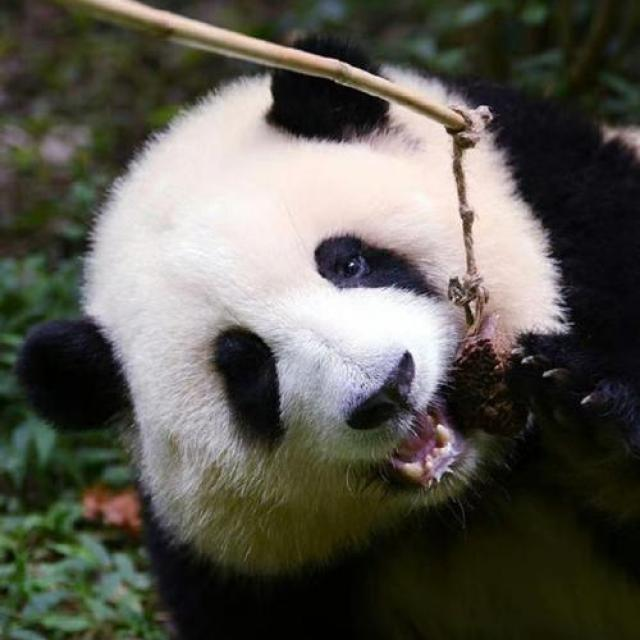panda: (6, 25, 640, 615)
